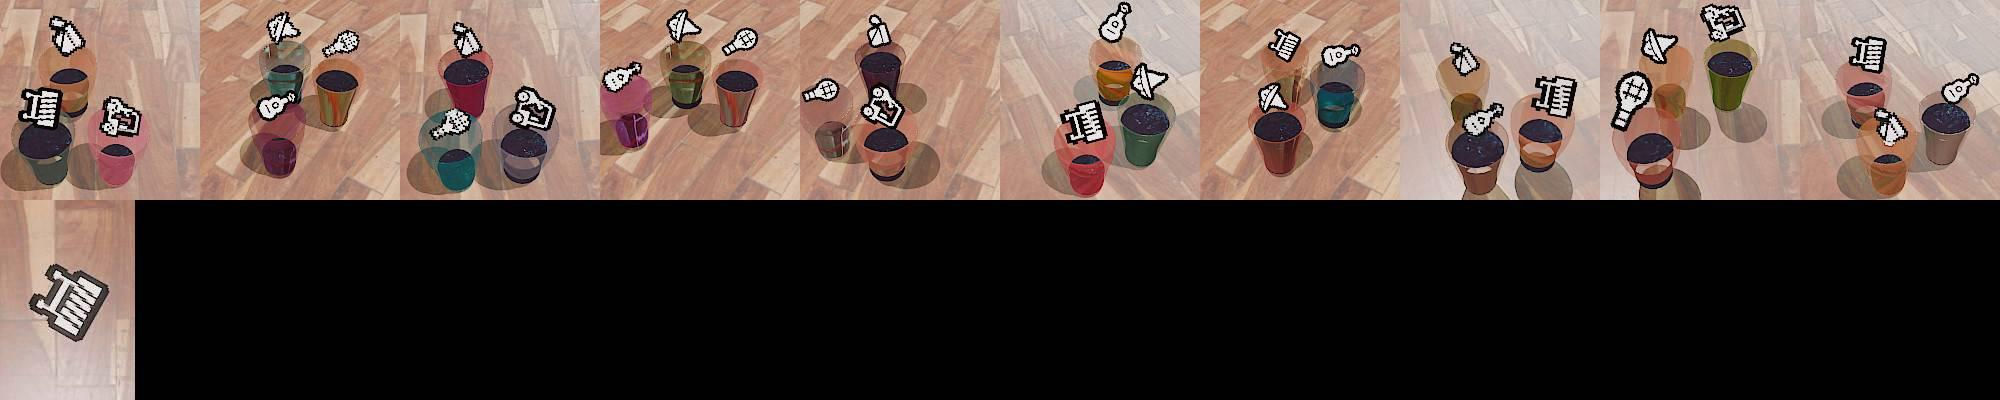icon: (28, 260, 110, 342), (1609, 71, 1653, 131), (1059, 97, 1107, 146), (511, 84, 558, 131), (1533, 72, 1579, 119), (859, 85, 905, 129), (99, 94, 143, 138), (18, 86, 64, 128), (1700, 4, 1747, 43), (1463, 99, 1506, 137), (50, 14, 87, 58), (1131, 61, 1170, 101), (601, 61, 645, 95), (1641, 27, 1679, 66), (1849, 34, 1887, 73), (1098, 1, 1132, 44), (256, 90, 301, 121), (1940, 73, 1982, 106), (430, 106, 472, 139), (1874, 106, 1909, 145), (665, 9, 702, 44), (265, 11, 301, 46), (1268, 27, 1302, 63), (452, 20, 484, 58), (720, 27, 759, 57), (1319, 41, 1360, 69), (1449, 41, 1480, 78), (321, 30, 360, 59), (801, 76, 840, 104), (1257, 81, 1288, 113), (866, 14, 892, 48)
